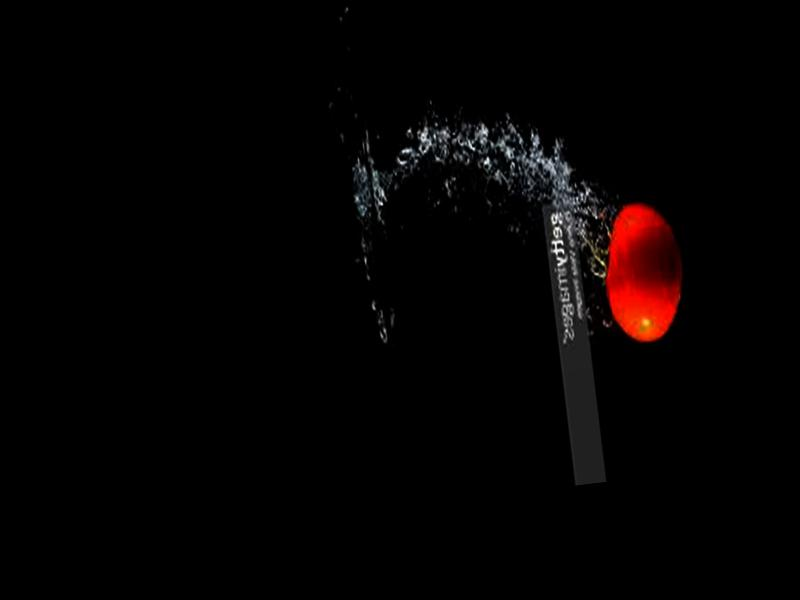Tomato: (596, 196, 687, 346)
